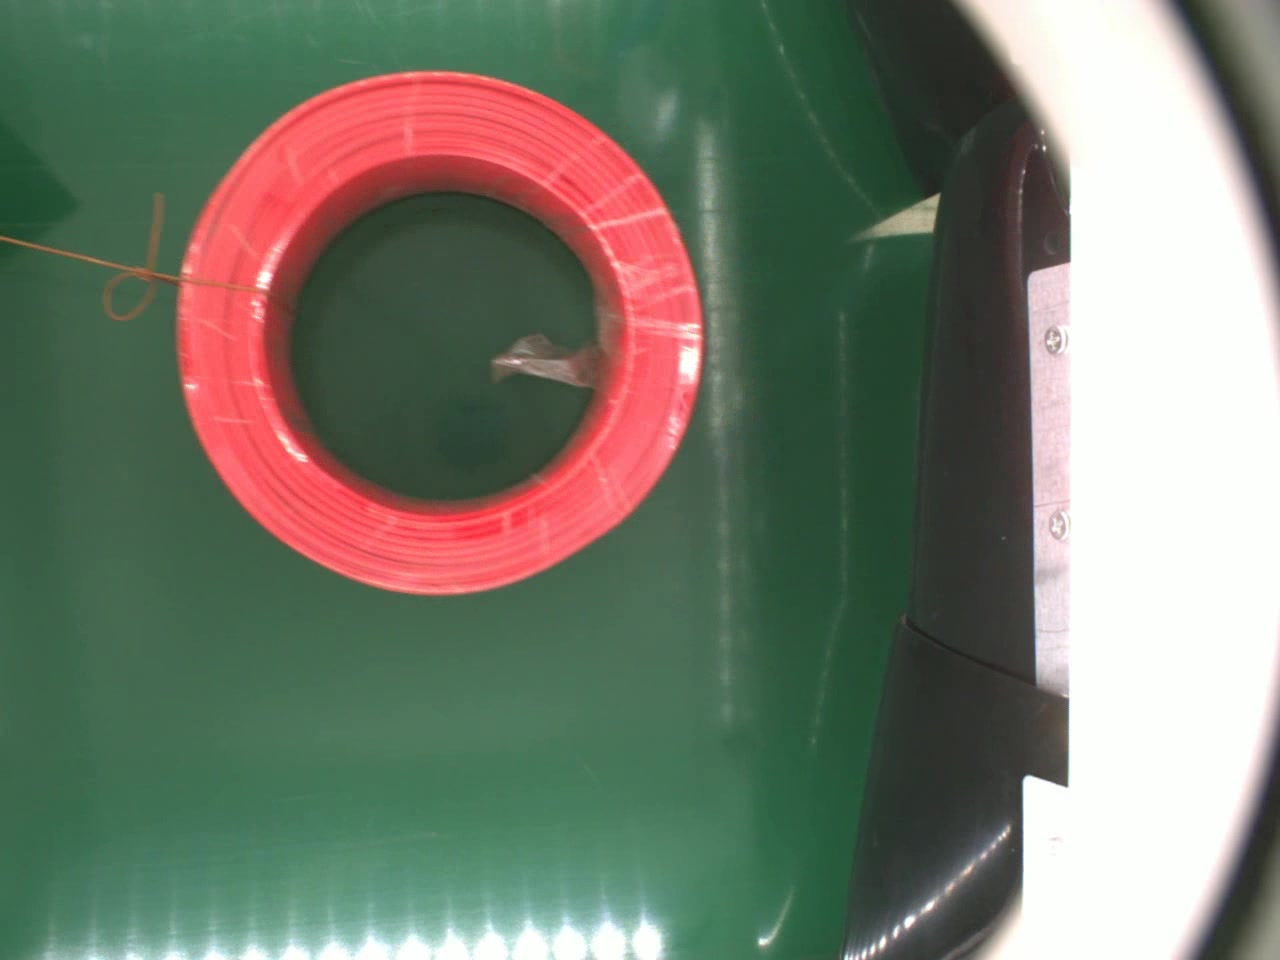red: (169, 72, 706, 598)
